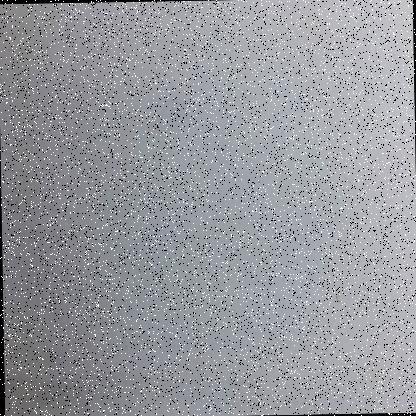Nocrack: (20, 17, 415, 415)
